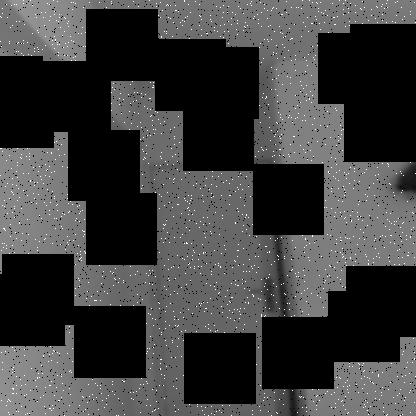Porte: (140, 152, 307, 416)
